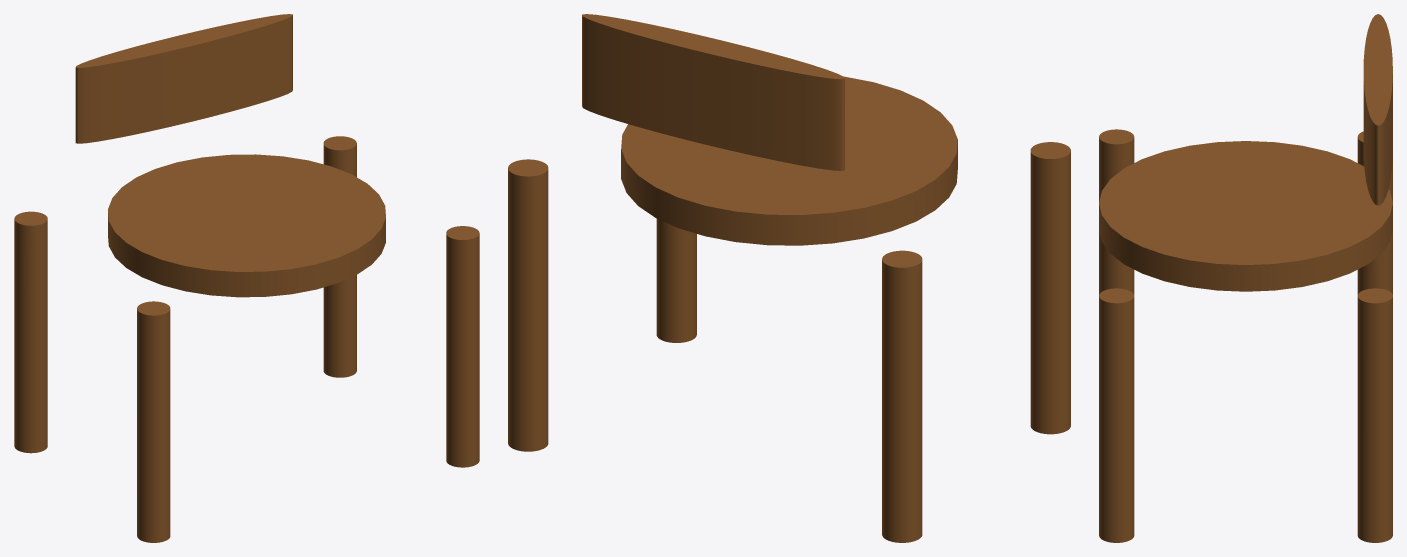
File: chair.glb
The picture shows the model from 3 angles, left to right: view 1: azimuth 30°, elevation 25°; view 2: azimuth 150°, elevation 25°; view 3: azimuth 270°, elevation 25°; orthographic projection. The views are drawn at different scales.
Visible parts, largest first — view 1: seat, backrest, leg1, leg2, leg3, leg4; view 2: seat, backrest, leg4, leg1, leg3, leg2; view 3: seat, leg2, leg4, backrest, leg1, leg3.
Part boxes in pixels (x1,y1,x2,y2): seat: (108, 154, 385, 297); backrest: (75, 14, 292, 143); leg1: (137, 301, 170, 542); leg2: (446, 226, 479, 467); leg3: (14, 211, 47, 453); leg4: (323, 136, 356, 377); seat: (621, 76, 957, 245); backrest: (582, 14, 844, 170); leg4: (508, 159, 548, 451); leg1: (1030, 142, 1070, 434); leg3: (882, 250, 922, 542); leg2: (656, 218, 696, 342); seat: (1099, 141, 1392, 291); leg2: (1099, 288, 1134, 542); leg4: (1357, 288, 1392, 542); backrest: (1363, 14, 1392, 205); leg1: (1099, 129, 1134, 294); leg3: (1357, 131, 1392, 294).
Bounding box in the file's own units: 0.7 × 0.725 × 0.5.
